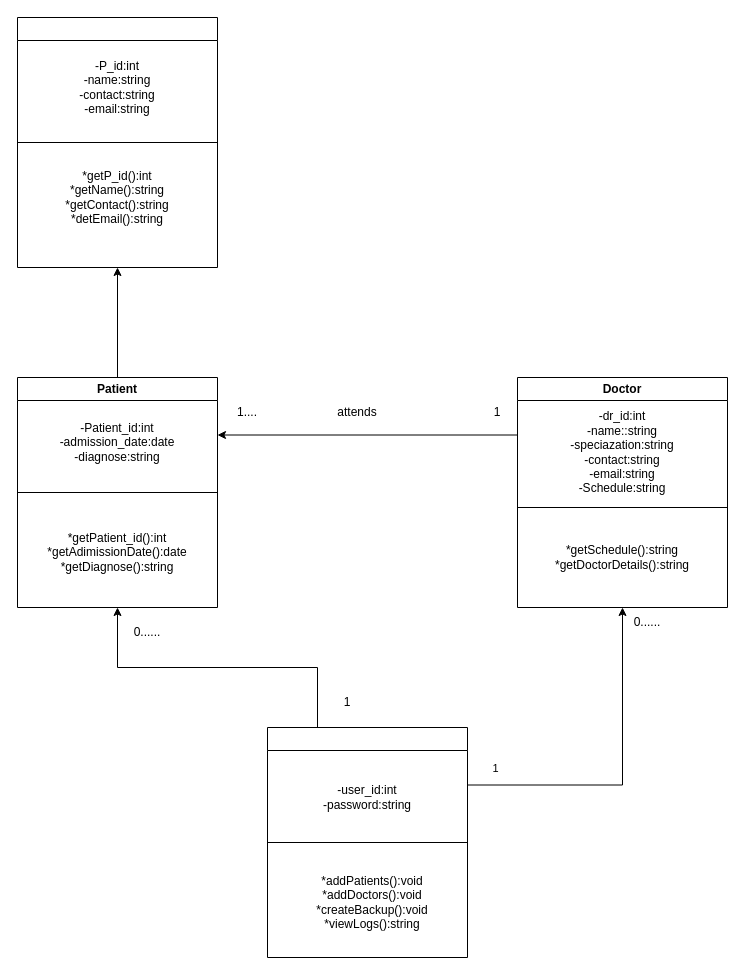
This 746x975 diagram has some shape labels left out. Here are the shapes that lost their labels. From the top down, the box of each, then its label:
(16, 16, 218, 268): Person
(266, 726, 468, 958): Admin
